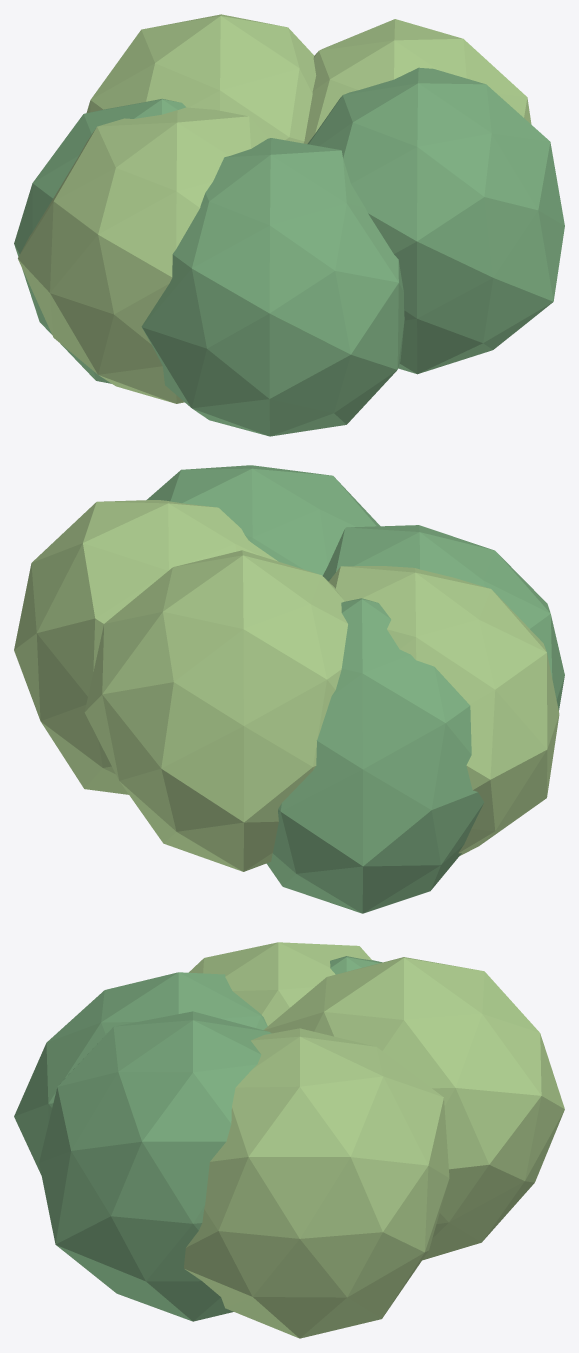
File: plant-bush-clean.glb
3 views of the same model, one above another, from view 1: azimuth 30°, elevation 25°; view 2: azimuth 150°, elevation 25°; view 3: azimuth 270°, elevation 25° (orthographic). The views are drawn at different scales.
Parts seen in each view (by area): view 1: plant-bush-kit-clean-green, plant-bush-kit-clean-leaf; view 2: plant-bush-kit-clean-leaf, plant-bush-kit-clean-green; view 3: plant-bush-kit-clean-leaf, plant-bush-kit-clean-green.
Part boxes in pixels (box(x1,y1,x2,y2)): plant-bush-kit-clean-green: box(14, 67, 564, 436); plant-bush-kit-clean-leaf: box(18, 14, 531, 403); plant-bush-kit-clean-leaf: box(14, 500, 559, 871); plant-bush-kit-clean-green: box(146, 465, 564, 913); plant-bush-kit-clean-leaf: box(184, 942, 564, 1338); plant-bush-kit-clean-green: box(14, 956, 382, 1321).
Size of the model in its own units: 1.79 by 1.15 by 1.75.
